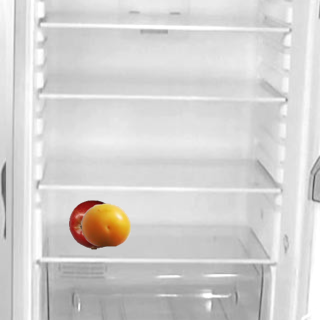Apple Braeburn: (68, 199, 118, 249)
Cherry Wax Yellow: (80, 199, 130, 249)
